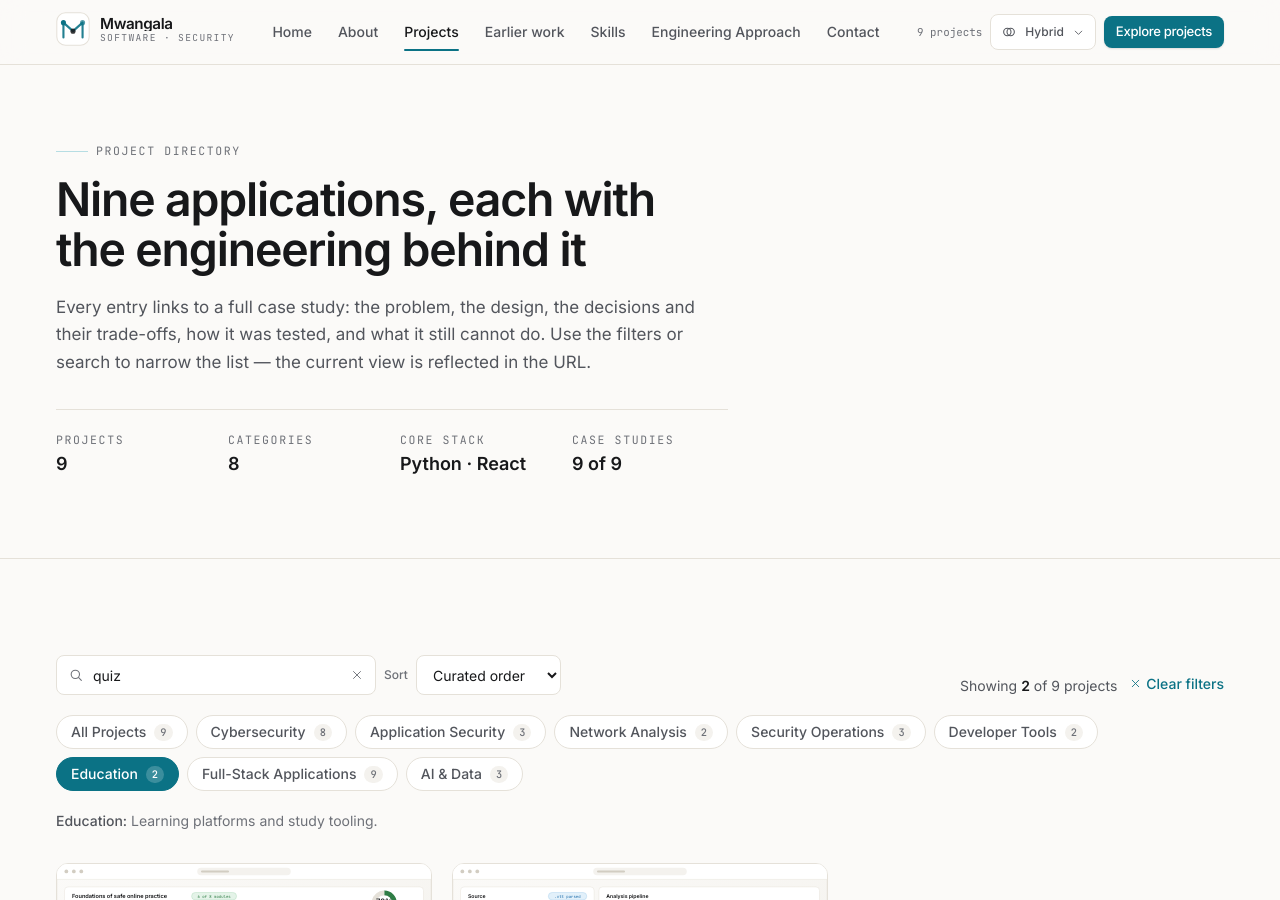
Scenario: project directory › restores the full list when filters are cleared
The image size is (1280, 900).
Check: the heading "Nine applications, each with the engineering behind it" is shown, box [56,171,655,277]
Step 1. Click the button "Clear filters" → (1177, 684), box [1129,674,1224,694]
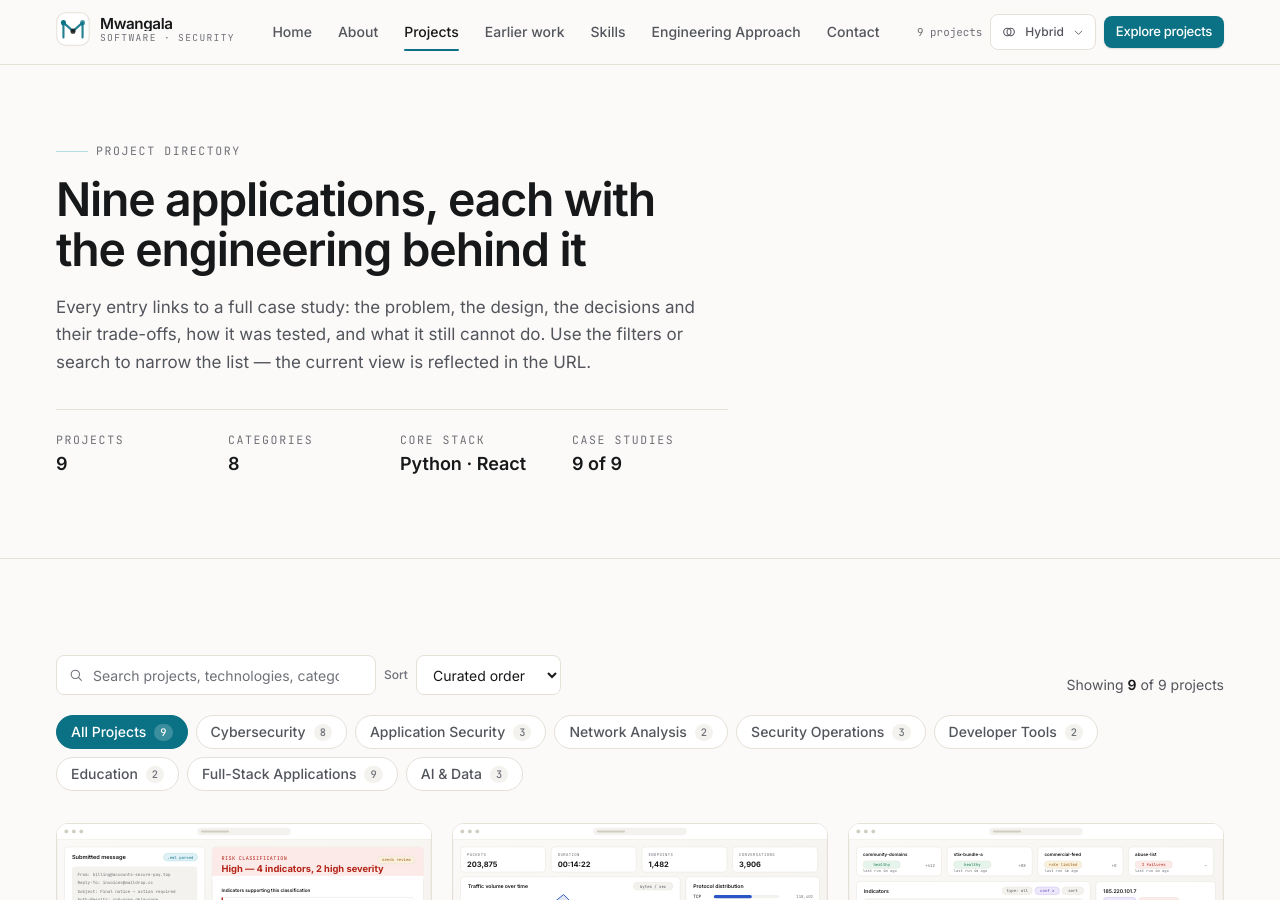
Check: the button "Clear filters" is gone
